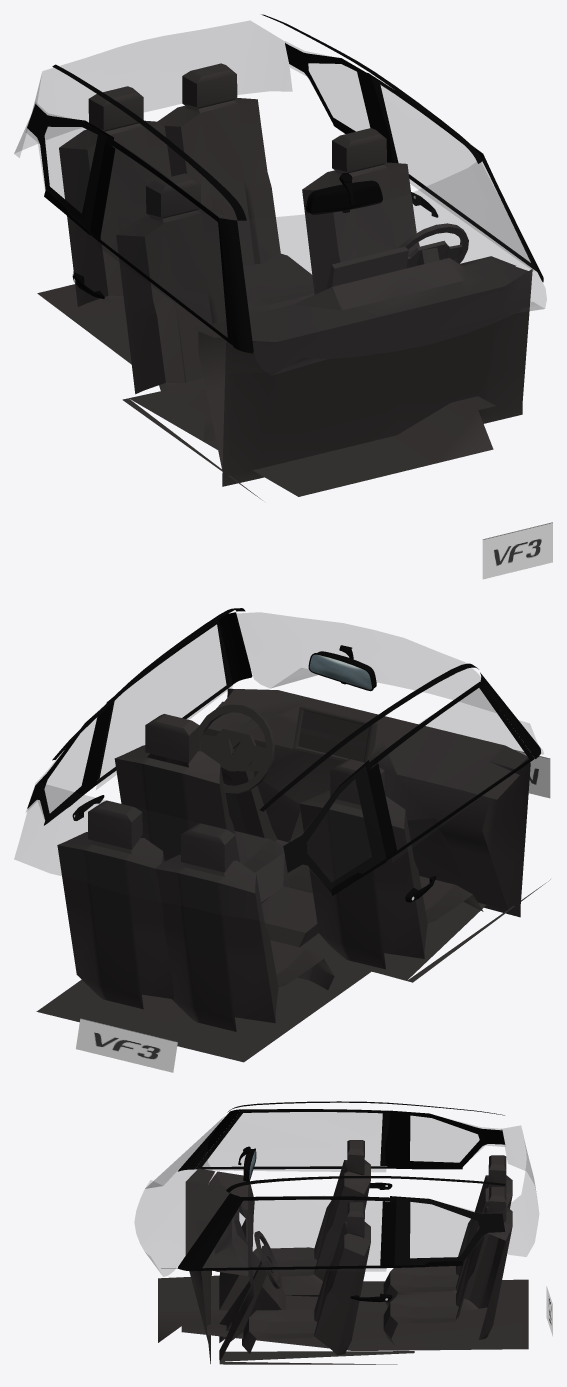
The model's file is Thân ko đổi màu.glb.
3 renders of one model, top to bottom at view 1: azimuth 30°, elevation 25°; view 2: azimuth 150°, elevation 25°; view 3: azimuth 270°, elevation 25°, orthographic. The views are drawn at different scales.
Visible parts, largest first — view 1: Nội thất, Khung 1; view 2: Nội thất, Khung 1; view 3: Khung 1, Nội thất.
Boxes of the visible parts, x1,y1,x2,y2 form: Nội thất: (37,63,532,500); Khung 1: (14,14,552,579); Nội thất: (36,688,550,1062); Khung 1: (14,608,550,1072); Khung 1: (135,1101,552,1336); Nội thất: (158,1140,528,1364).
Bounding box in the file's own units: 0.9524 × 0.7499 × 1.89.
8 materials, 3 textured.
